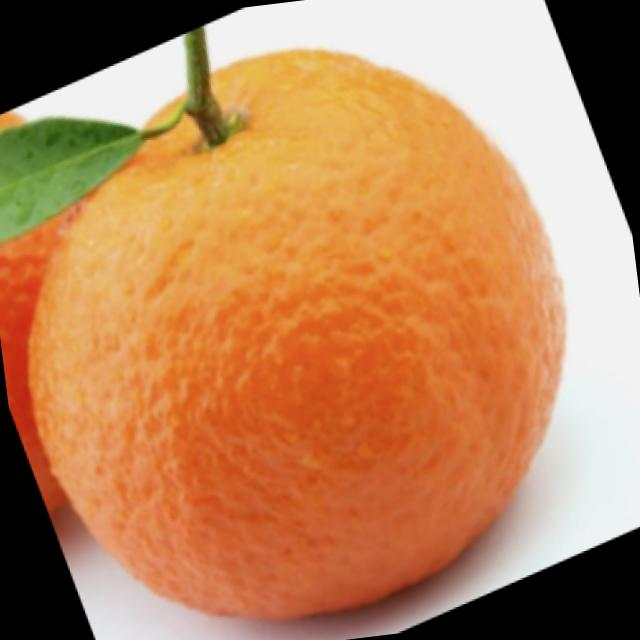orange: (7, 0, 611, 614)
